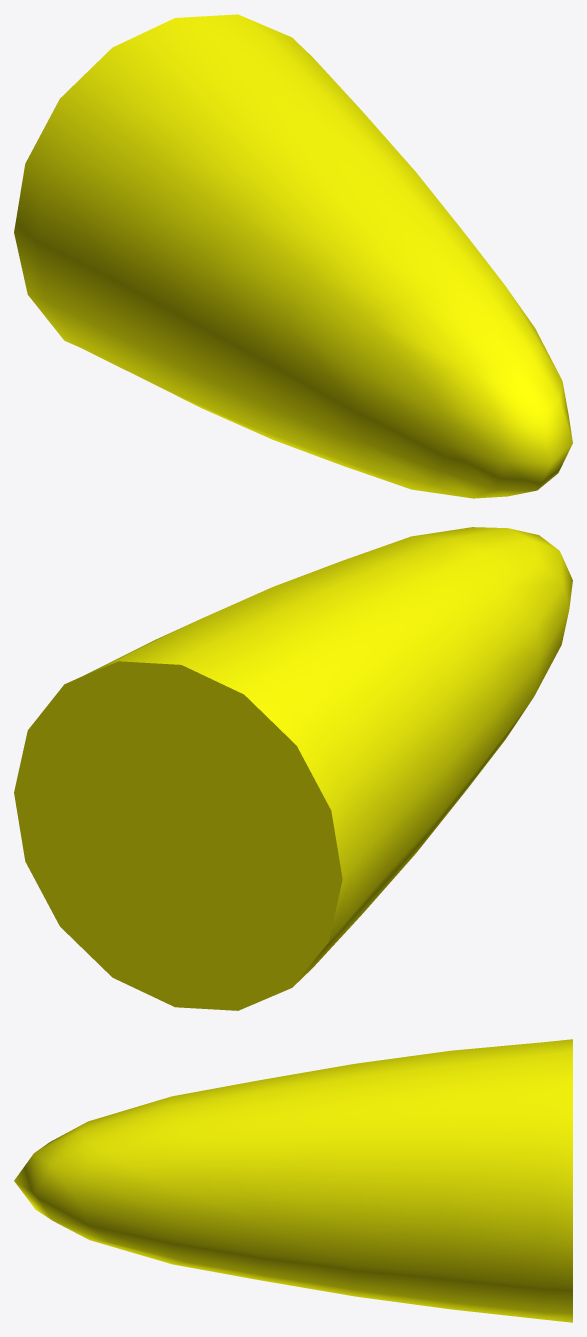
Rendered from BULLET.fbx.
3 views of the same model, one above another, from view 1: azimuth 30°, elevation 25°; view 2: azimuth 150°, elevation 25°; view 3: azimuth 270°, elevation 25° (orthographic). The views are drawn at different scales.
Visible parts, largest first — view 1: Bullet4; view 2: Bullet4; view 3: Bullet4.
Part boxes in pixels (x1,y1,x2,y2): Bullet4: (14, 14, 572, 498); Bullet4: (14, 527, 572, 1010); Bullet4: (14, 1039, 572, 1322).
Bounding box in the file's own units: 0.577 × 0.577 × 1.14.
